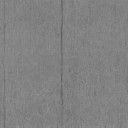surface scratch: (60, 16, 64, 66), (60, 85, 64, 106), (60, 0, 64, 12), (60, 68, 63, 82), (3, 106, 6, 120), (4, 24, 6, 35)
